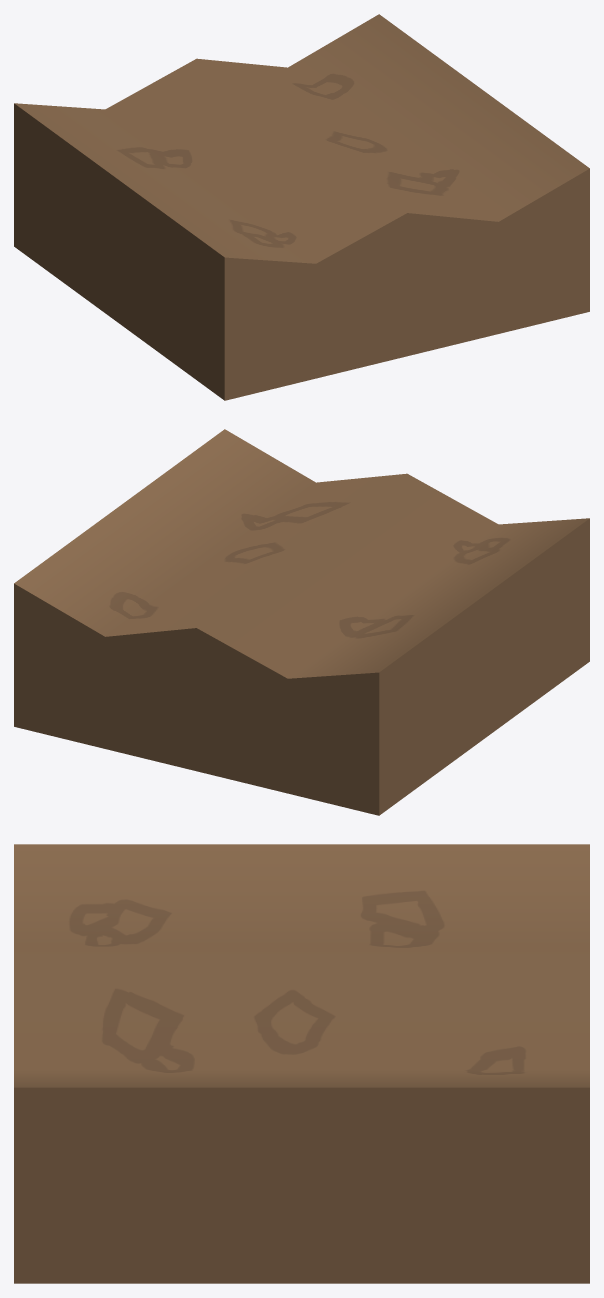
File: Tilled.FBX
The picture shows the model from 3 angles, top to bottom: view 1: azimuth 30°, elevation 25°; view 2: azimuth 150°, elevation 25°; view 3: azimuth 270°, elevation 25°; orthographic projection. The views are drawn at different scales.
Visible parts, largest first — view 1: Box001; view 2: Box001; view 3: Box001.
Part boxes in pixels (left/top/right/bottom): Box001: left=14, top=14, right=589, bottom=400; Box001: left=14, top=429, right=589, bottom=815; Box001: left=14, top=844, right=589, bottom=1283.
Size of the model in its own units: 24 by 9 by 24.
Materials: 1 (1 with a texture image).
